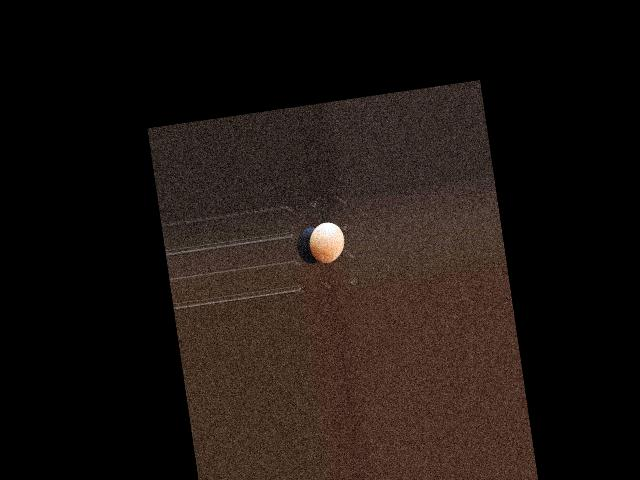egg: (306, 220, 347, 265)
